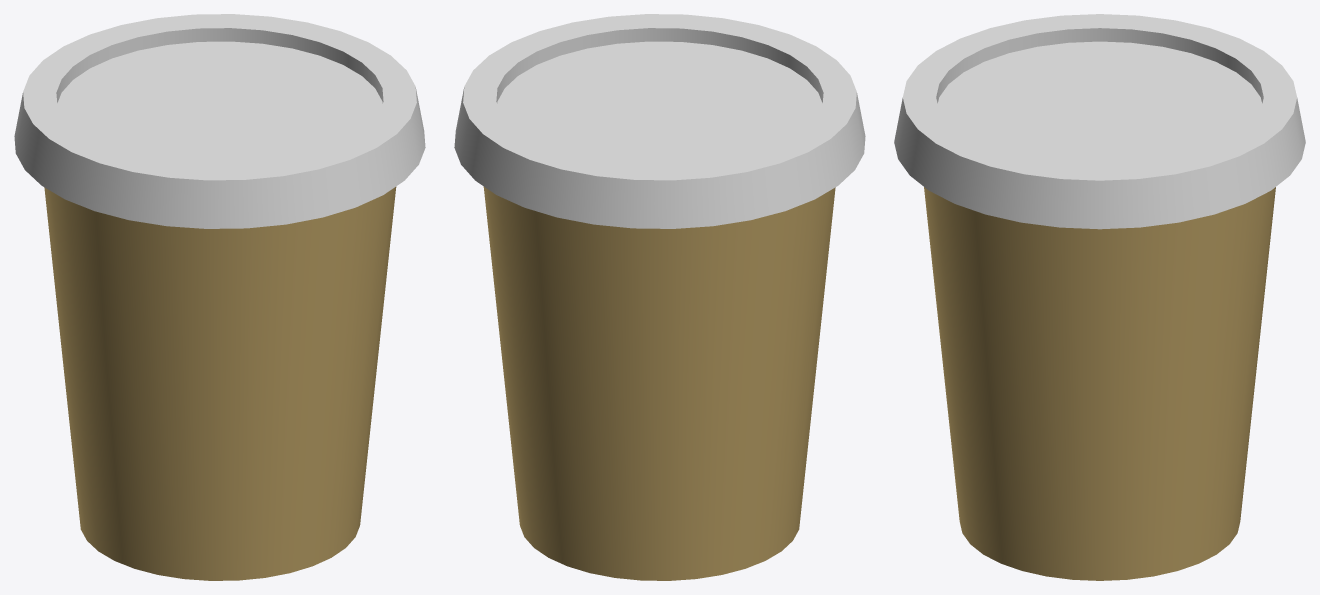
File: coffe.fbx
3 renders of one model, left to right at view 1: azimuth 30°, elevation 25°; view 2: azimuth 150°, elevation 25°; view 3: azimuth 270°, elevation 25°, orthographic.
Parts seen in each view (by area): view 1: #coffe; view 2: #coffe; view 3: #coffe.
Boxes of the visible parts, box(x1,y1,x2,y2) form: #coffe: box(14, 14, 425, 580); #coffe: box(454, 14, 865, 580); #coffe: box(894, 14, 1305, 580).
Size of the model in its own units: 228 by 259 by 228.
